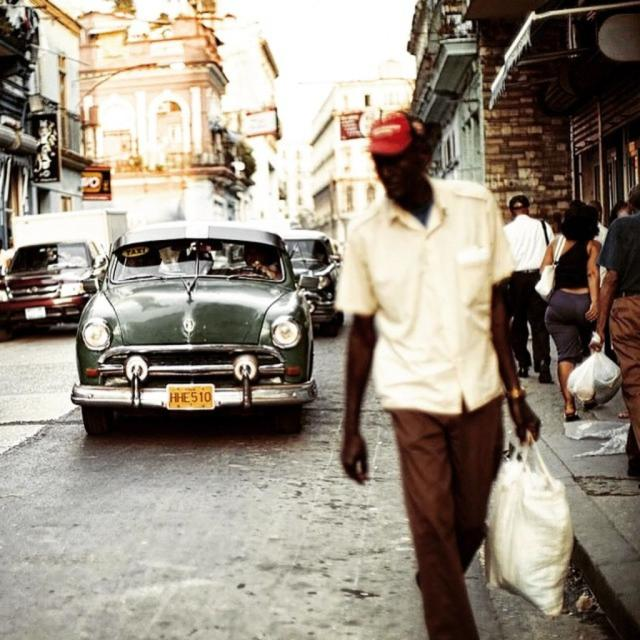car: (50, 221, 338, 440)
